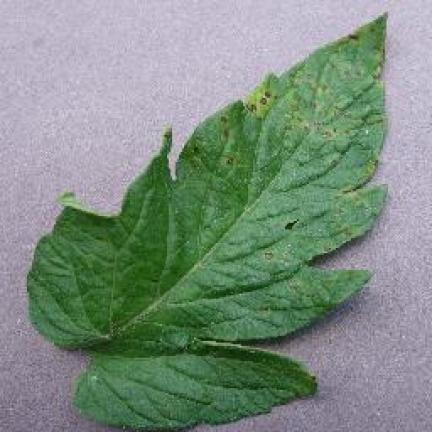disease: (29, 15, 385, 427)
leaf: (364, 159, 375, 176)
